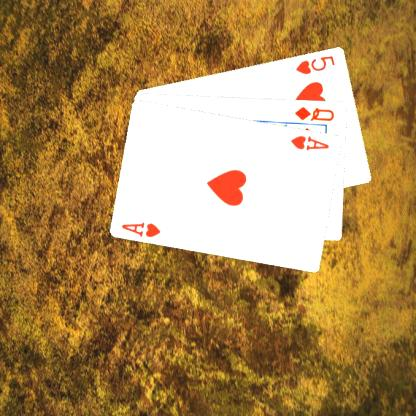5H: (293, 52, 337, 76)
AH: (288, 132, 331, 152), (119, 218, 162, 238)
QD: (292, 103, 336, 122)
